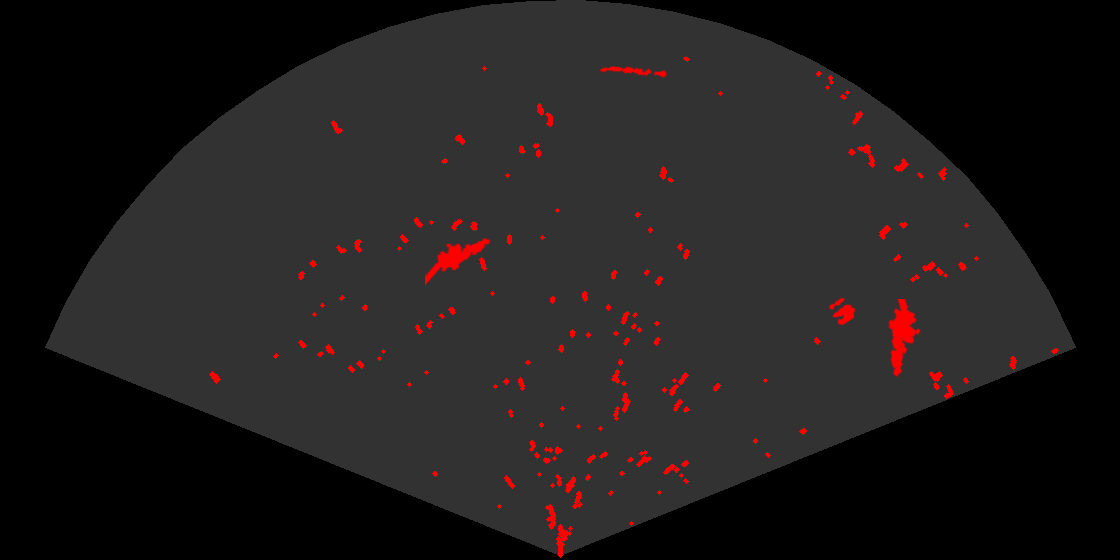ball: (828, 296, 857, 327)
chain: (598, 64, 668, 79)
frogman: (425, 236, 492, 285), (887, 299, 923, 378)
